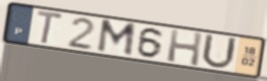2: (66, 16, 98, 51)
6: (136, 26, 166, 59)
H: (166, 28, 205, 68)
M: (95, 18, 138, 59)
T: (35, 8, 66, 46)
U: (199, 32, 239, 71)
